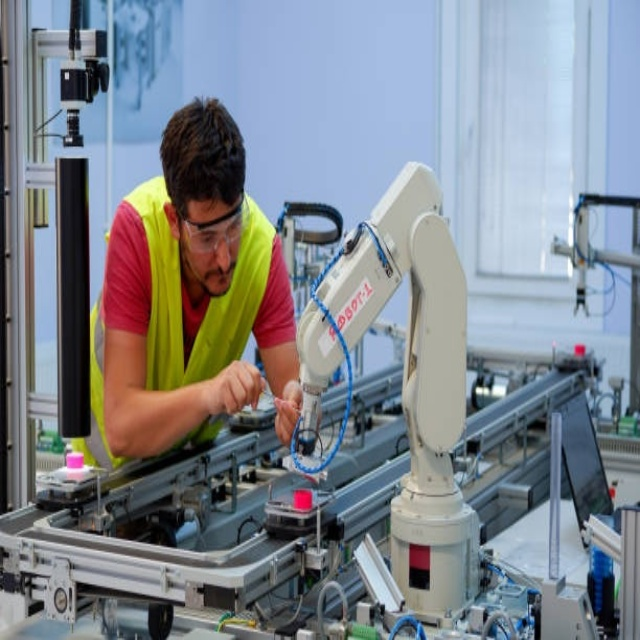Gafas: (181, 195, 246, 255)
Sin_guantes: (211, 357, 267, 420), (272, 384, 307, 448)
Sin_mascara: (200, 259, 235, 300)
